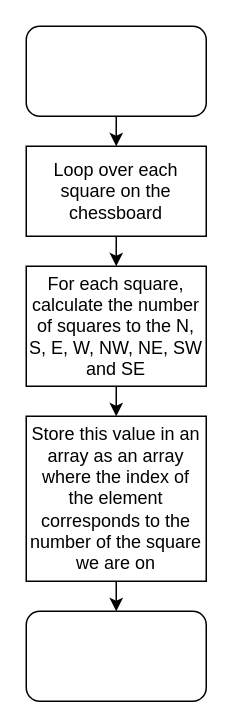
This 233x728 diagram has some shape labels left out. Each missing label, with the box of its shape:
End: (25, 610, 206, 701)
Start: (25, 25, 206, 116)
